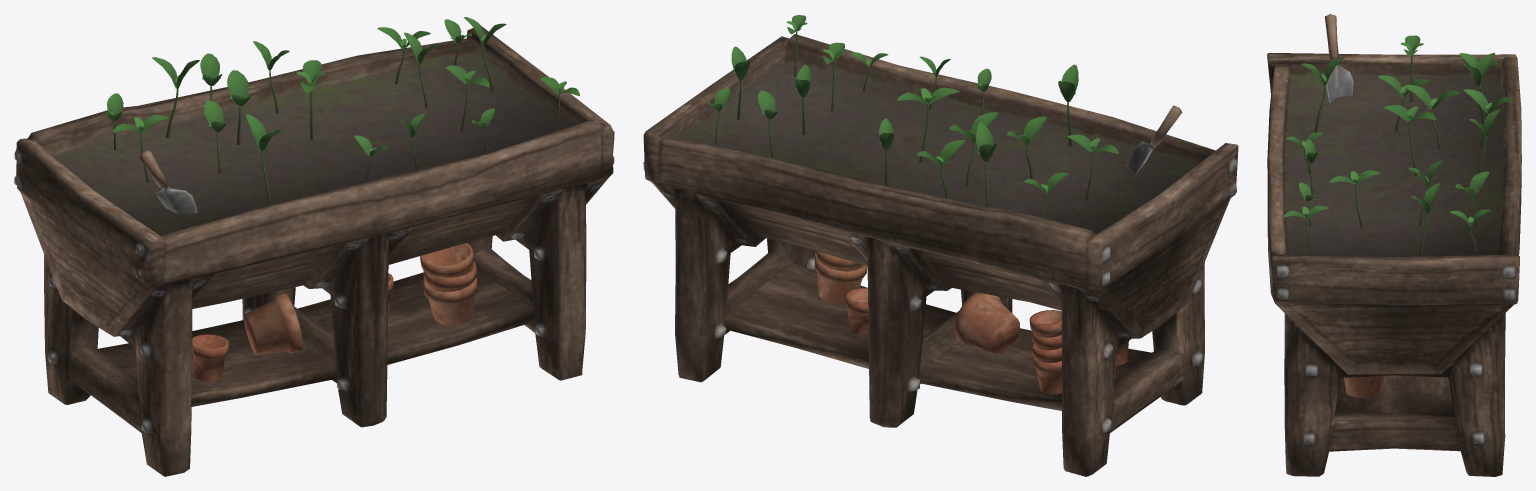
Rendered from seedbed.glb.
3 renders of one model, left to right at view 1: azimuth 30°, elevation 25°; view 2: azimuth 150°, elevation 25°; view 3: azimuth 270°, elevation 25°, orthographic. The views are drawn at different scales.
Visible parts, largest first — view 1: npc_props_npc_prop_seedbed_01; view 2: npc_props_npc_prop_seedbed_01; view 3: npc_props_npc_prop_seedbed_01.
Boxes of the visible parts, <box> form: npc_props_npc_prop_seedbed_01: <box>14,17,614,476</box>; npc_props_npc_prop_seedbed_01: <box>643,15,1238,476</box>; npc_props_npc_prop_seedbed_01: <box>1267,14,1521,476</box>.
Size of the model in its own units: 2.03 by 1.3 by 1.04.
2 materials, 2 textured.
